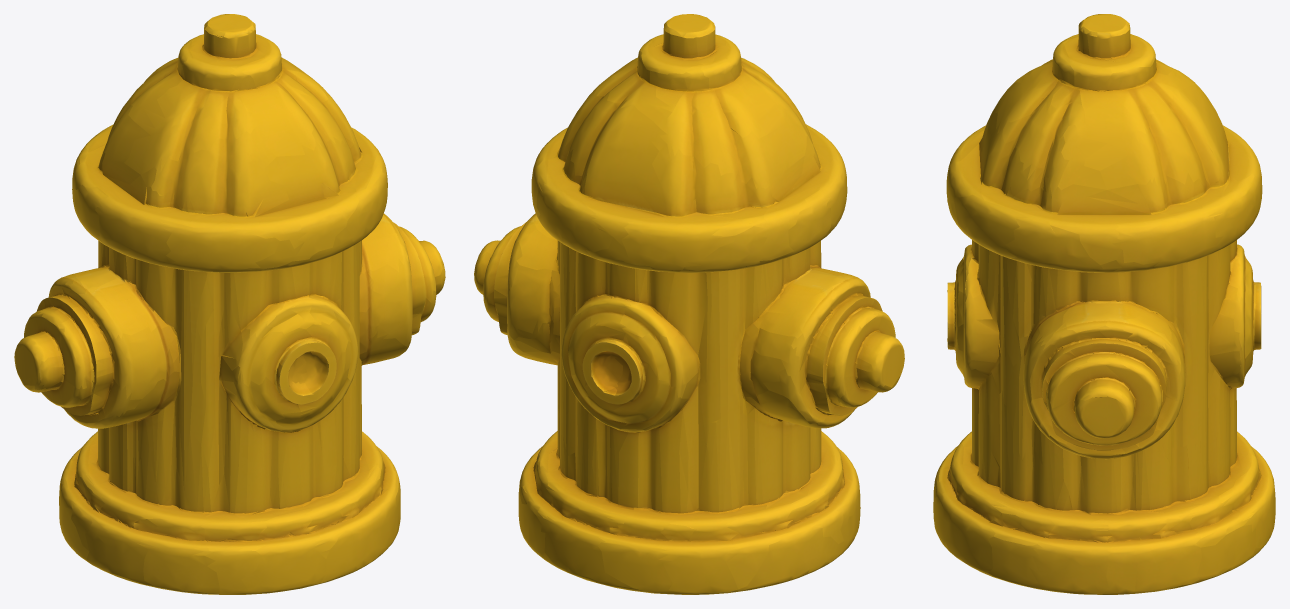
Rendered from hydrant_cap.glb.
3 views of the same model, side by side, from view 1: azimuth 30°, elevation 25°; view 2: azimuth 150°, elevation 25°; view 3: azimuth 270°, elevation 25° (orthographic).
Bounding box in the file's own units: 1.61 × 1.9 × 1.17.
1 material, 1 textured.
